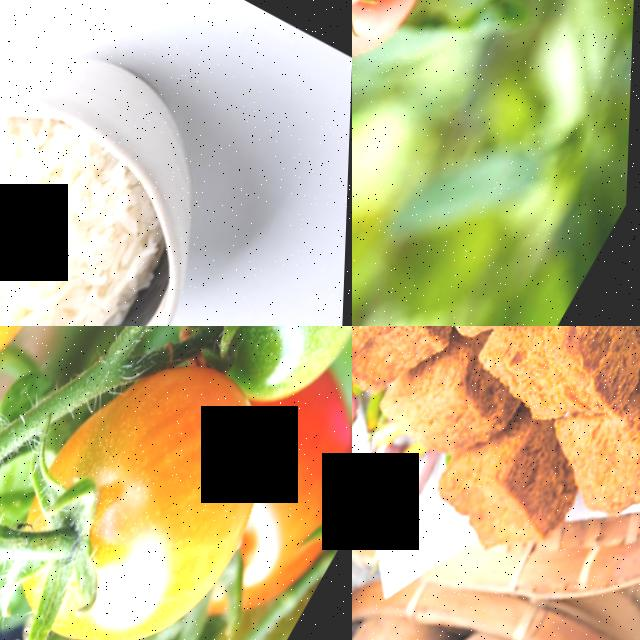tofu: (426, 411, 598, 575), (484, 326, 640, 452), (563, 346, 640, 542), (352, 326, 453, 415)
tomato: (0, 326, 314, 640)
white rice: (0, 108, 179, 326)
